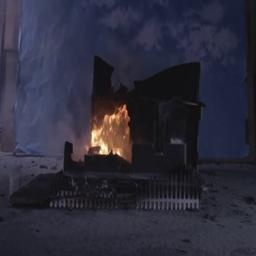fire: (87, 96, 141, 161)
